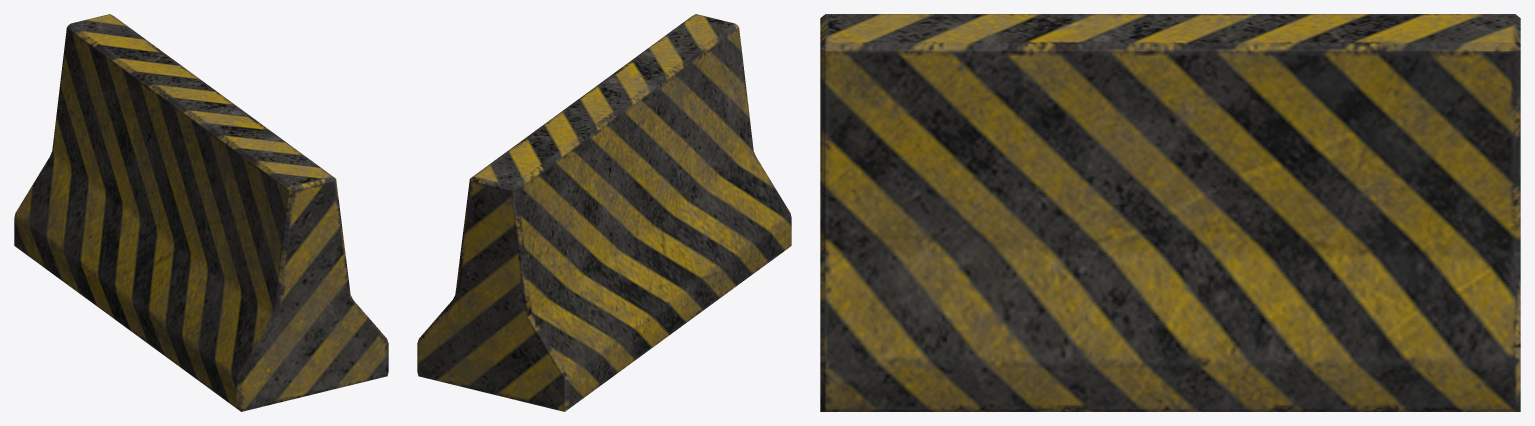
File: concrete_barrier.fbx
3 renders of one model, left to right at view 1: azimuth 30°, elevation 25°; view 2: azimuth 150°, elevation 25°; view 3: azimuth 270°, elevation 25°, orthographic. The views are drawn at different scales.
Visible parts, largest first — view 1: Concrete_Barrier_1; view 2: Concrete_Barrier_1; view 3: Concrete_Barrier_1.
Boxes of the visible parts, x1,y1,x2,y2 form: Concrete_Barrier_1: (14, 14, 388, 411); Concrete_Barrier_1: (417, 14, 791, 411); Concrete_Barrier_1: (820, 14, 1520, 411).
Bounding box in the file's own units: 67.56 × 89.69 × 174.
Materials: 1 (1 with a texture image).
